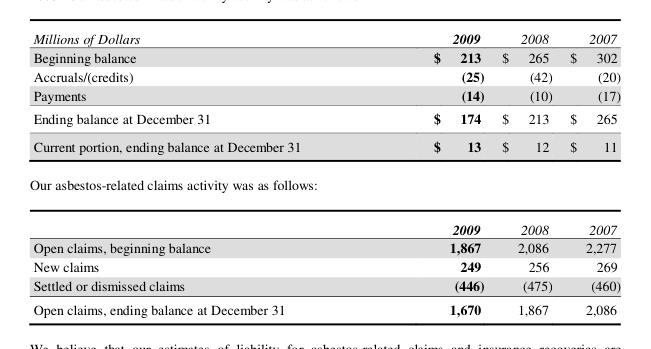table: (28, 29, 620, 318)
table column: (28, 29, 366, 318), (366, 29, 492, 318), (492, 29, 560, 318), (560, 29, 620, 318)
table column header: (28, 29, 620, 47)
table projected row header: (28, 165, 620, 206)
table row: (28, 165, 620, 206), (28, 131, 620, 165), (28, 206, 620, 238), (28, 106, 620, 131), (28, 275, 620, 297), (28, 85, 620, 106), (28, 297, 620, 318), (28, 47, 620, 66), (28, 66, 620, 85), (28, 256, 620, 275), (28, 29, 620, 47), (28, 238, 620, 256)
